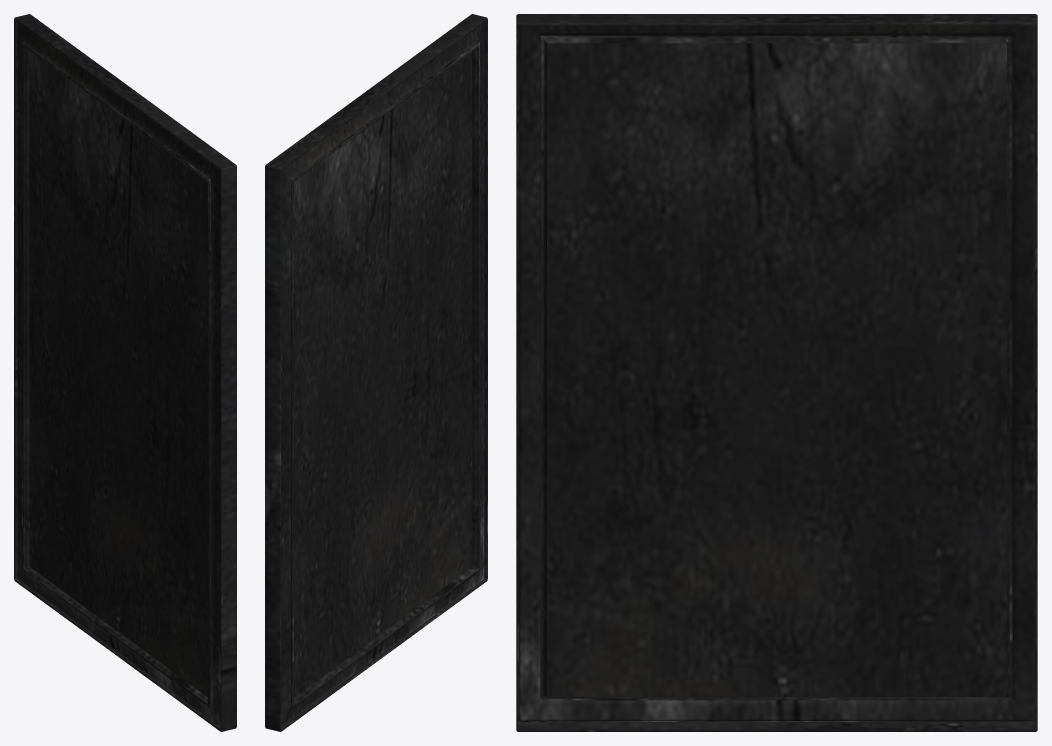
File: SM_Horror_Attic_Mirror.fbx
The picture shows the model from 3 angles, left to right: view 1: azimuth 30°, elevation 25°; view 2: azimuth 150°, elevation 25°; view 3: azimuth 270°, elevation 25°; orthographic projection. The views are drawn at different scales.
Visible parts, largest first — view 1: SM_Horror_Attic_Mirror; view 2: SM_Horror_Attic_Mirror; view 3: SM_Horror_Attic_Mirror.
Part boxes in pixels (box(x1,y1,x2,y2)): SM_Horror_Attic_Mirror: box(14, 14, 236, 731); SM_Horror_Attic_Mirror: box(265, 14, 487, 731); SM_Horror_Attic_Mirror: box(516, 14, 1037, 731).
Size of the model in its own units: 10.15 by 200 by 300.
Materials: 2 (2 with a texture image).
